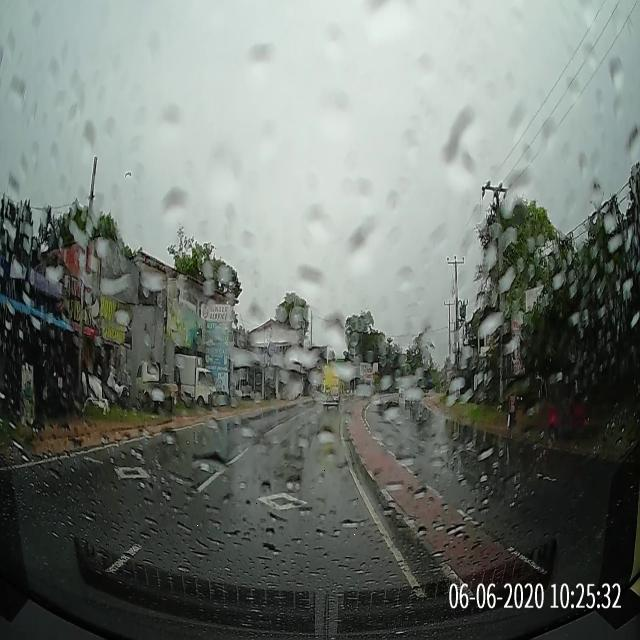diamond: (167, 463, 400, 551)
